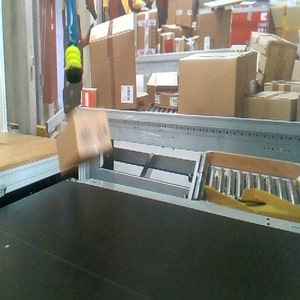box: (54, 108, 114, 175)
